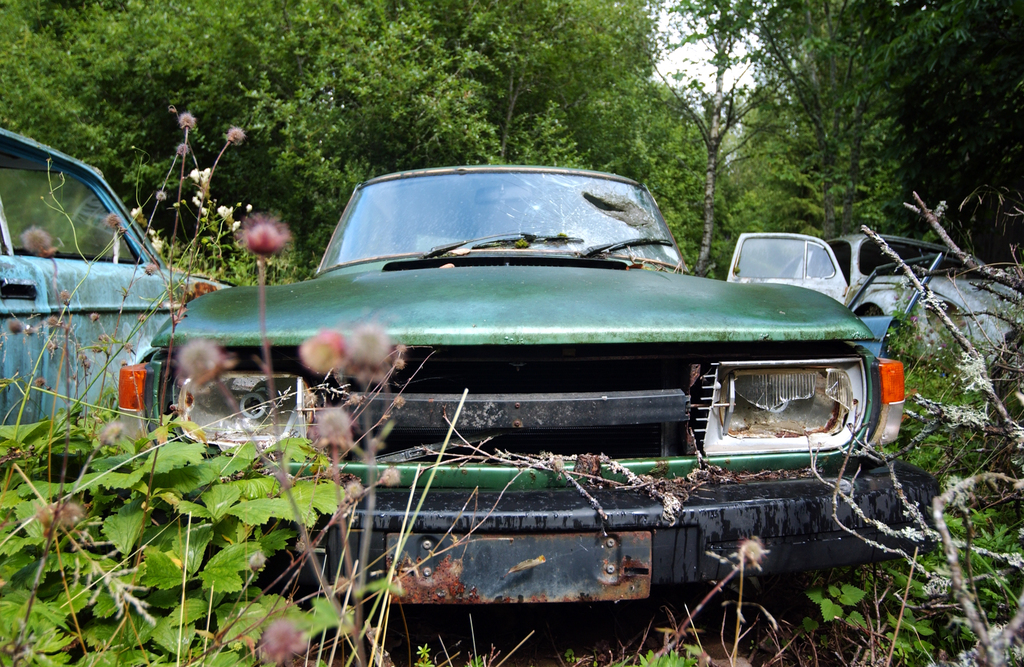Car: (110, 149, 946, 632), (0, 124, 234, 433), (723, 225, 1023, 378)
